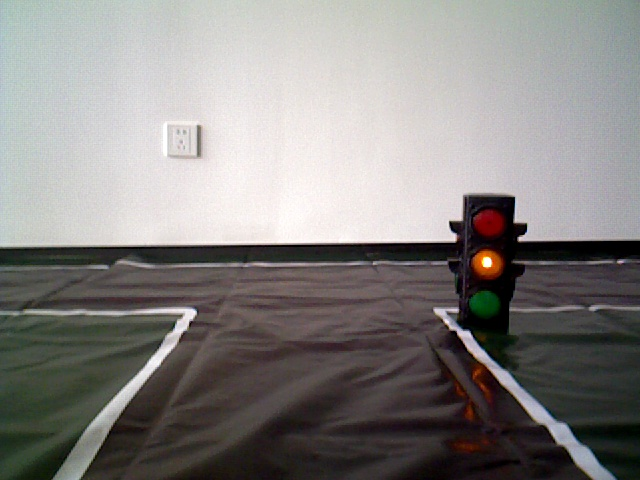yellow: (462, 194, 512, 325)
